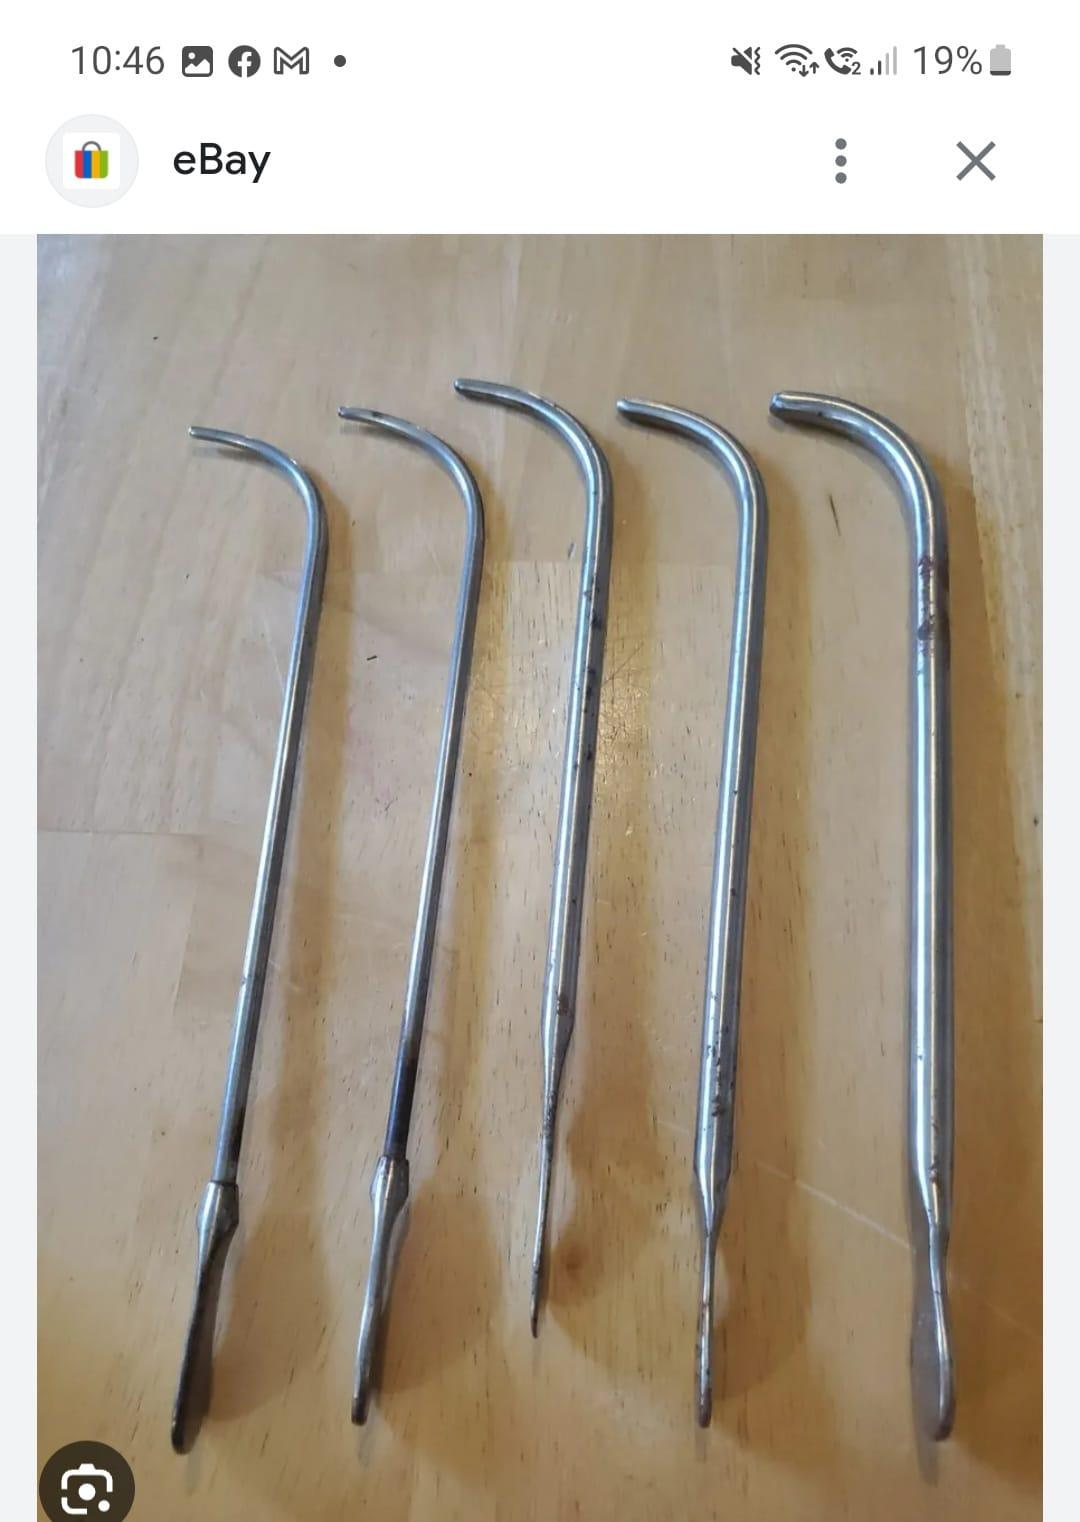Urethral Dilators: (753, 380, 1020, 1430), (565, 390, 821, 1455), (108, 393, 338, 1453), (422, 358, 641, 1392), (298, 380, 507, 1425)
